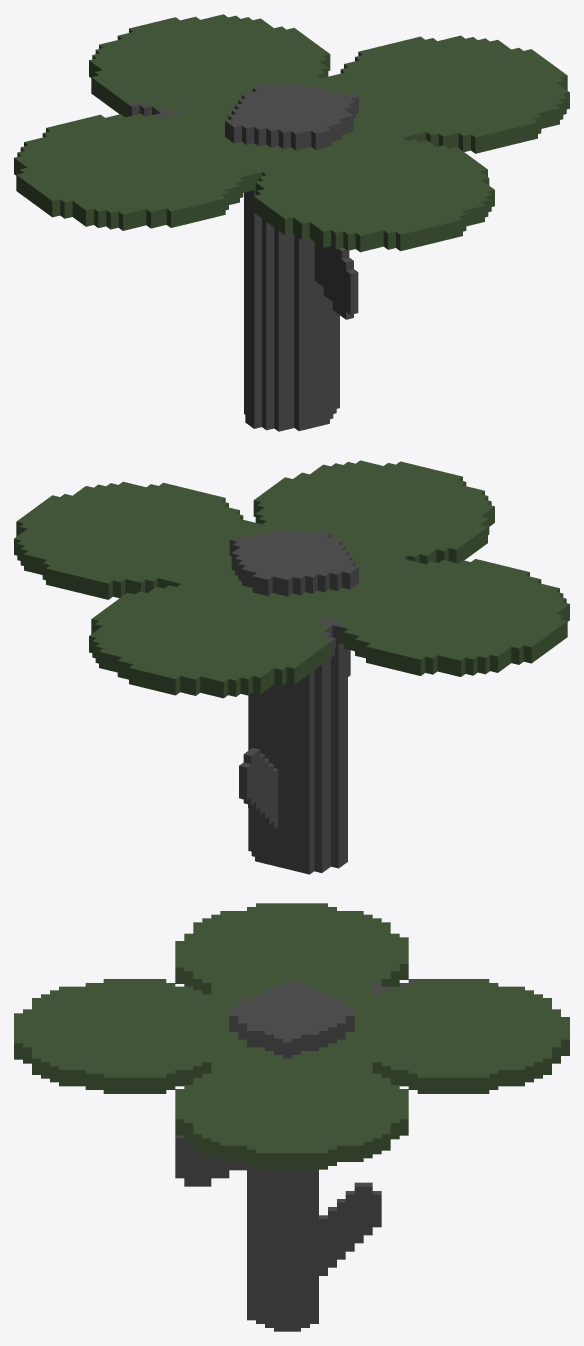
File: Flor.obj
The picture shows the model from 3 angles, top to bottom: view 1: azimuth 30°, elevation 25°; view 2: azimuth 150°, elevation 25°; view 3: azimuth 270°, elevation 25°; orthographic projection.
Bounding box in the file's own units: 6.6 × 3.7 × 6.2.
